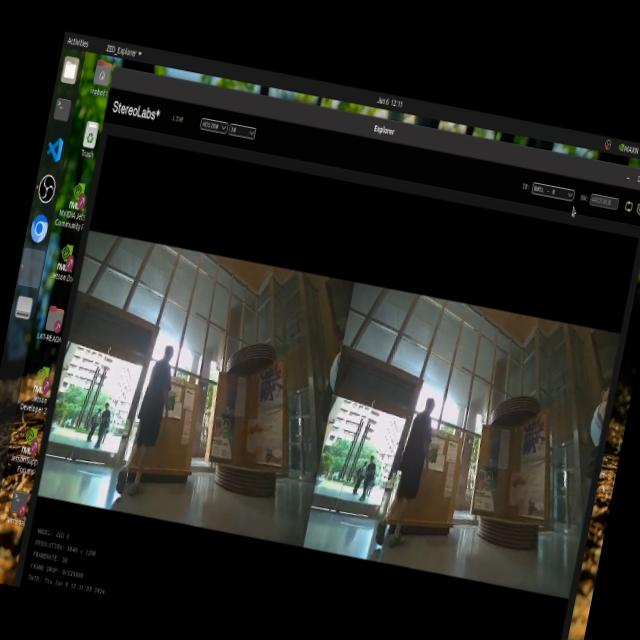green: (420, 440, 442, 467), (165, 394, 177, 411)
